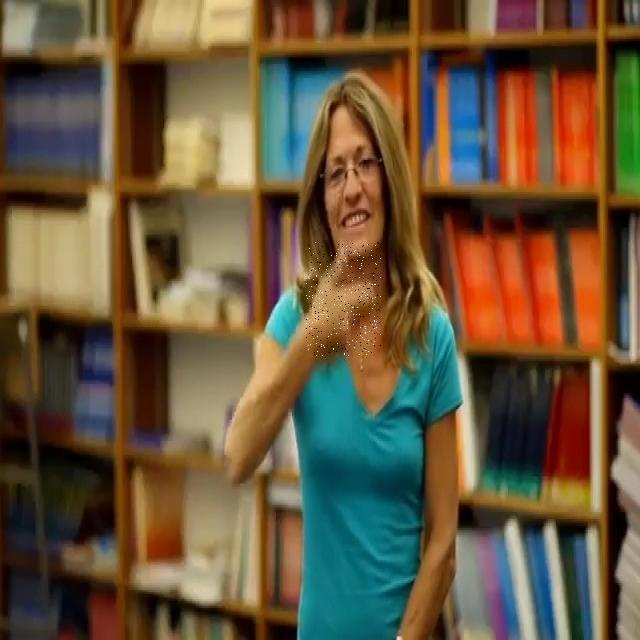pizza: (306, 242, 381, 356)
